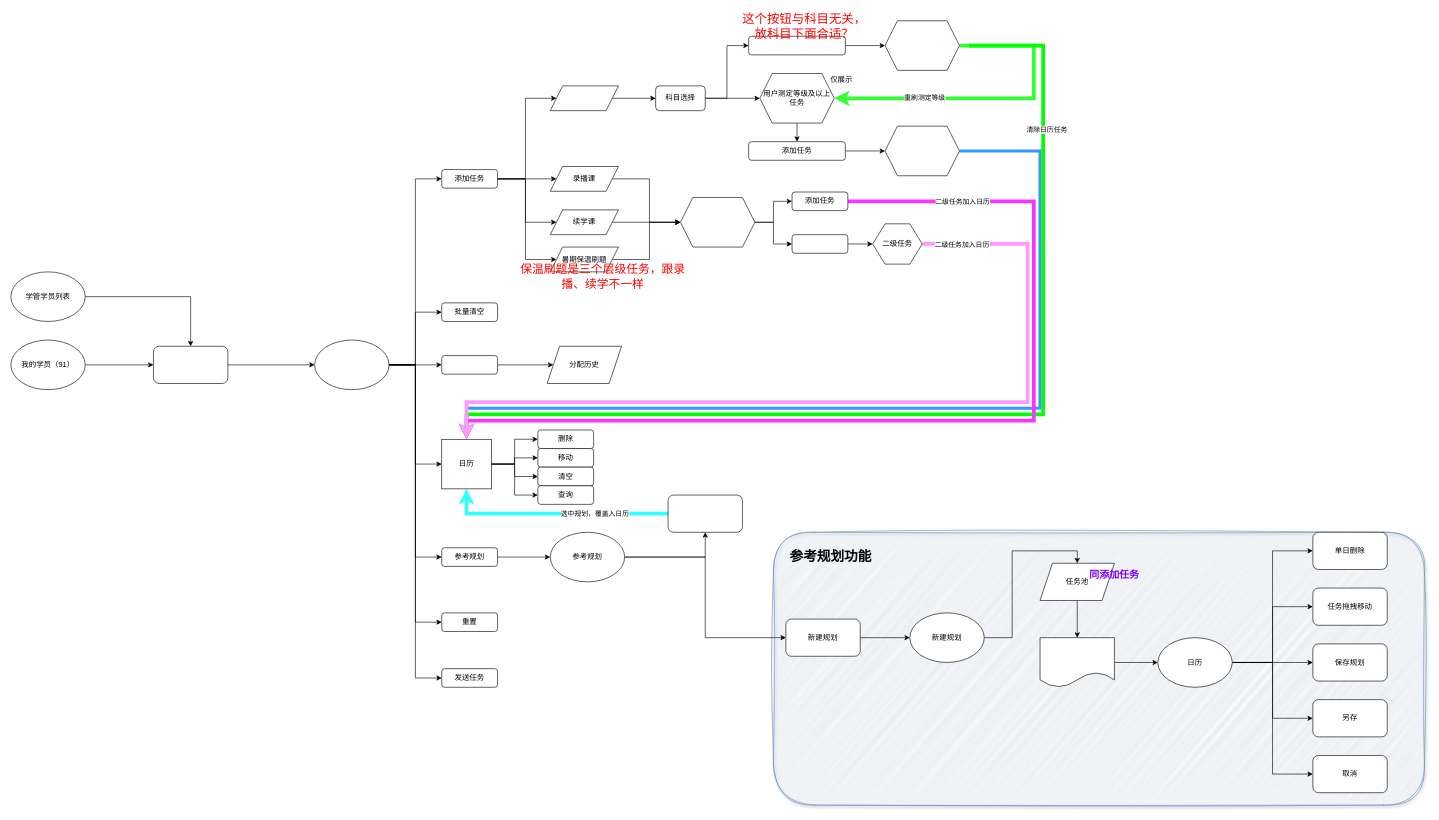
Some shapes in this 1439 by 820 pixel diagram are drawn without their labels. Each missing label, with the centre of its shape:
一级任务: (x=717, y=222)
分配: (x=1076, y=662)
分配任务: (x=190, y=364)
分配记录: (x=469, y=364)
分配详情页: (x=351, y=364)
查看: (x=819, y=243)
规划列表查询: (x=704, y=513)
课前规划: (x=584, y=98)
调整用户课前规划等级: (x=796, y=45)
调节等级: (x=921, y=45)
选择分配规则: (x=921, y=151)
